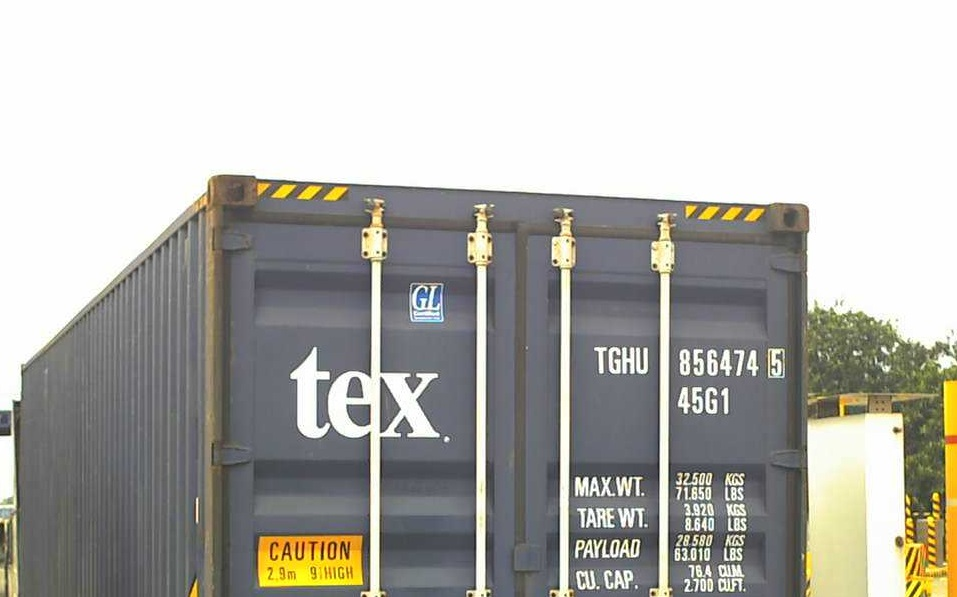container_door: (207, 163, 810, 597)
